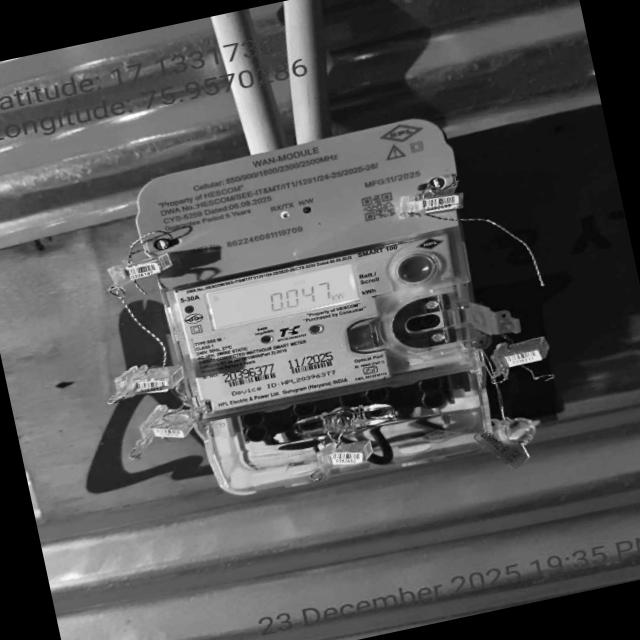meter: (131, 114, 488, 420)
